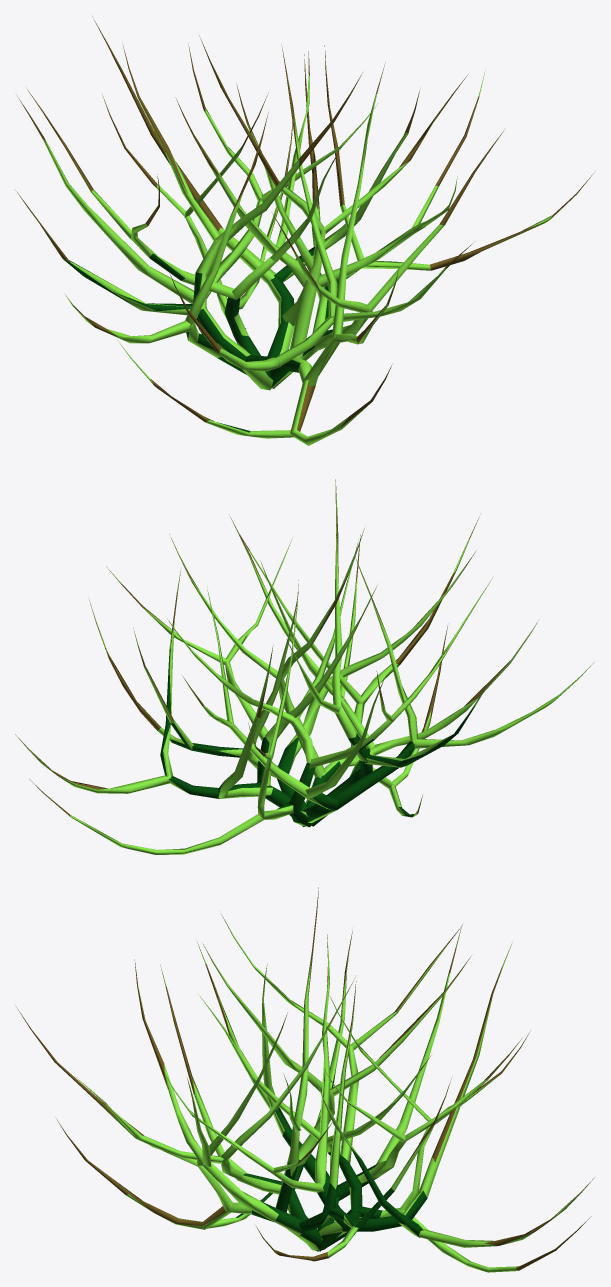
File: wallbush.fbx
3 views of the same model, one above another, from view 1: azimuth 30°, elevation 25°; view 2: azimuth 150°, elevation 25°; view 3: azimuth 270°, elevation 25° (orthographic). The views are drawn at different scales.
Parts seen in each view (by area): view 1: WALLBUSH; view 2: WALLBUSH; view 3: WALLBUSH.
Part boxes in pixels (bbox=[...]): WALLBUSH: bbox=[15, 16, 594, 445]; WALLBUSH: bbox=[15, 479, 594, 854]; WALLBUSH: bbox=[16, 887, 594, 1272].
Size of the model in its own units: 637 by 400 by 629.
